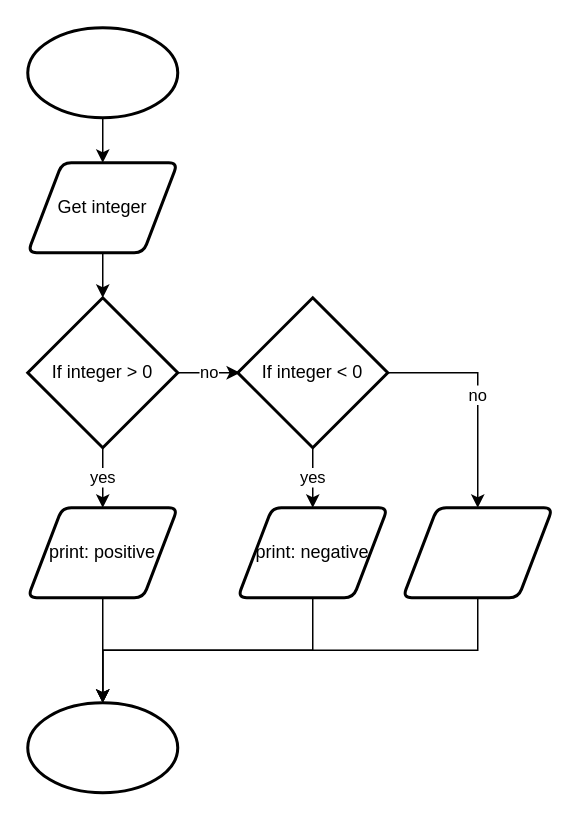
Some shapes in this 579 by 819 pixel diagram are drawn without their labels. Here are the shapes that lost their labels. From the top down, the centre of each, then its label:
At point (102, 72): "Start".
At point (477, 552): "print: zero".
At point (102, 747): "Stop".
